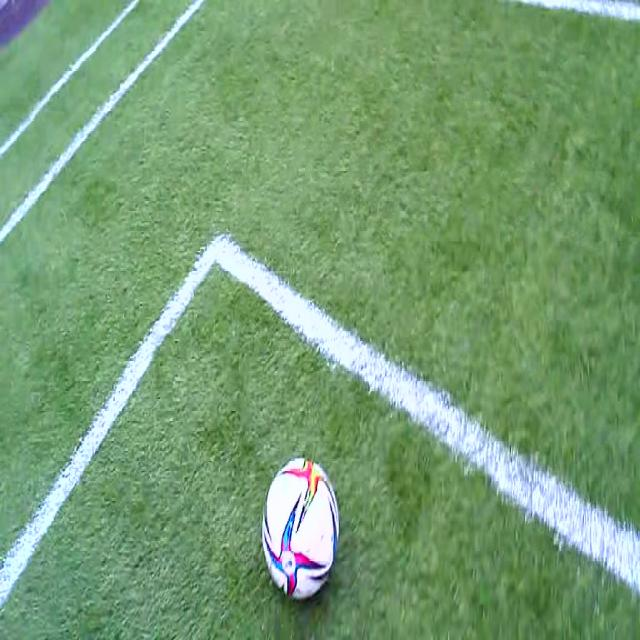ball: (263, 458, 339, 599)
